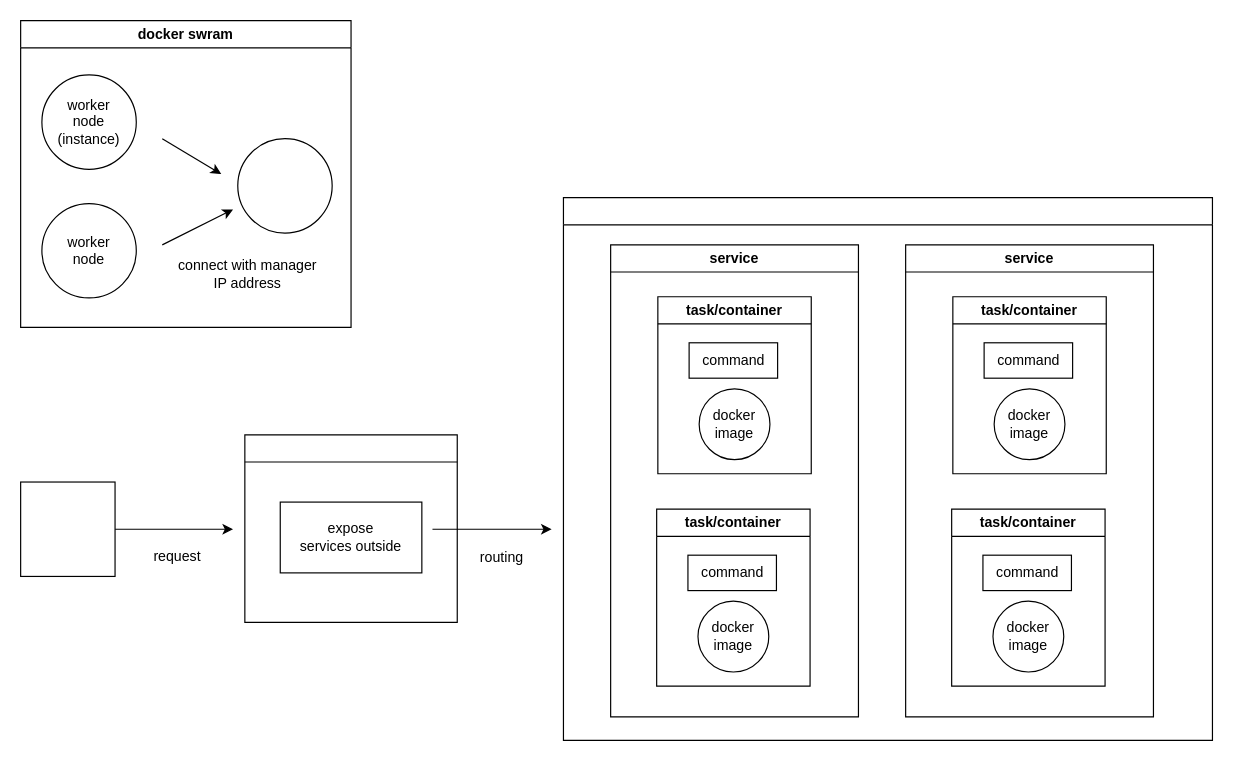
This 1233x761 diagram has some shape labels left out. Each missing label, with the box of its shape:
client: (19, 481, 115, 576)
cluster: (562, 196, 1212, 740)
ingress load balancer: (244, 434, 457, 622)
manager node: (237, 137, 332, 233)
